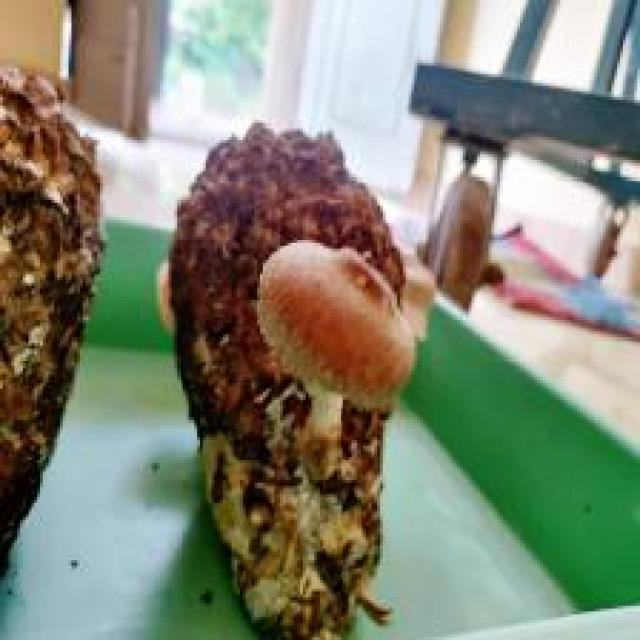chanterelle: (0, 54, 106, 637)
